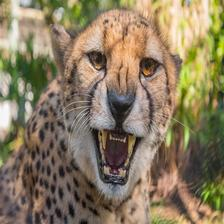Cheetah: (0, 6, 184, 222)
